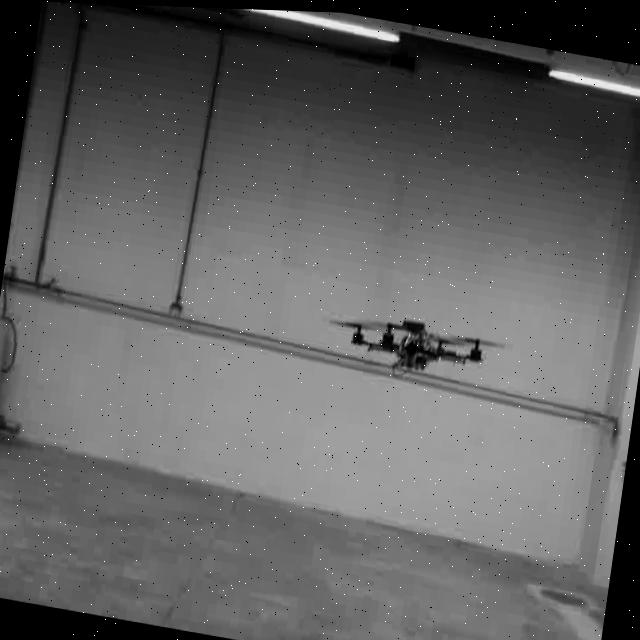drone: (337, 302, 494, 385)
